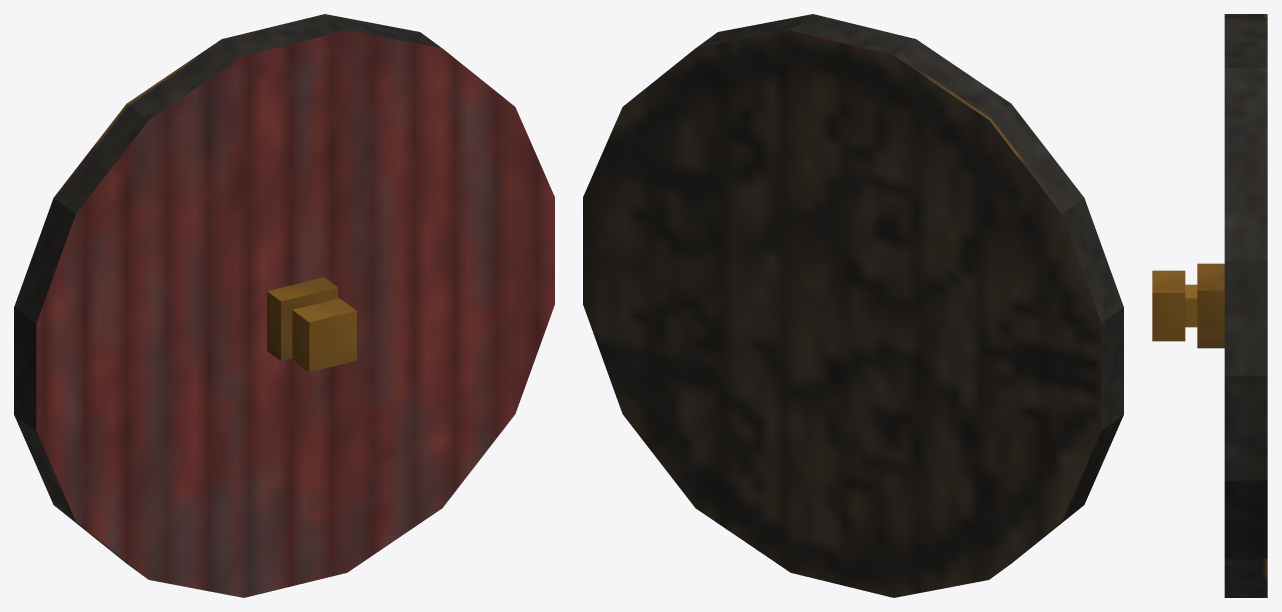
Rendered from hobbit_door_3x3_red.obj.
3 renders of one model, left to right at view 1: azimuth 30°, elevation 25°; view 2: azimuth 150°, elevation 25°; view 3: azimuth 270°, elevation 25°, orthographic. The views are drawn at different scales.
Parts seen in each view (by area): view 1: cylinder, cube; view 2: cylinder; view 3: cylinder, cube.
Boxes of the visible parts, box(x1,y1,x2,y2) form: cylinder: box(14, 14, 554, 597); cube: box(267, 277, 356, 372); cylinder: box(583, 14, 1123, 597); cylinder: box(1224, 14, 1267, 597); cube: box(1152, 263, 1224, 348).
Bounding box in the file's own units: 2.57 × 2.57 × 0.5123.
